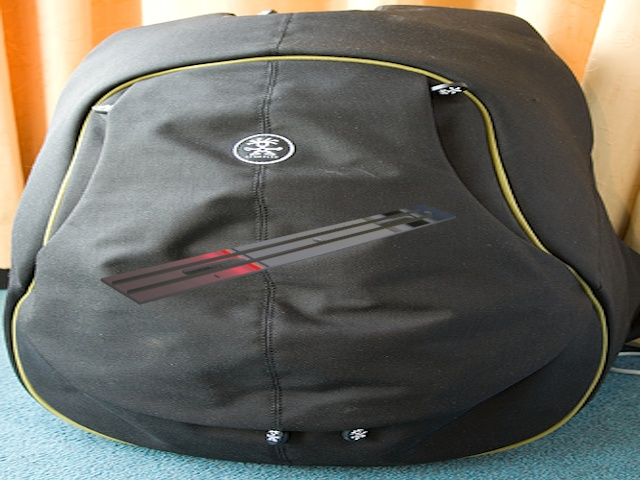ruler: (97, 193, 464, 312)
